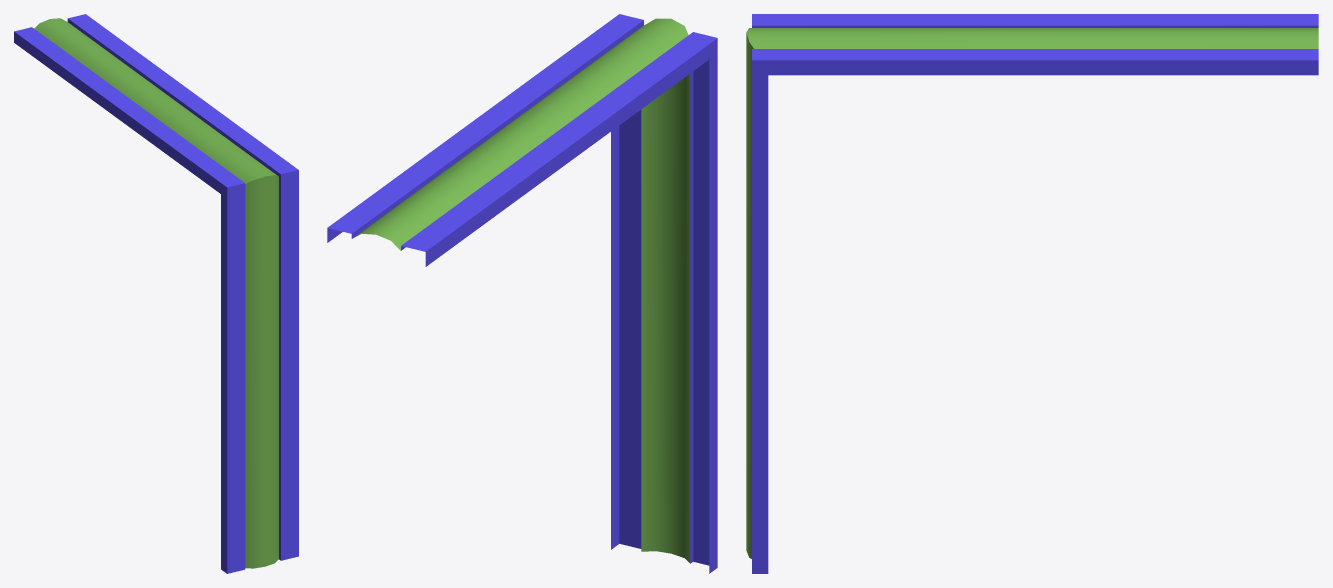
File: PowerCable_WallEdgeTransition_01.FBX
3 views of the same model, side by side, from view 1: azimuth 30°, elevation 25°; view 2: azimuth 150°, elevation 25°; view 3: azimuth 270°, elevation 25° (orthographic). The views are drawn at different scales.
Visible parts, largest first — view 1: PowerCable_WallEdgeTransition_01; view 2: PowerCable_WallEdgeTransition_01; view 3: PowerCable_WallEdgeTransition_01.
Part boxes in pixels (box(x1,y1,x2,y2)): PowerCable_WallEdgeTransition_01: box(14, 14, 298, 573); PowerCable_WallEdgeTransition_01: box(327, 14, 717, 573); PowerCable_WallEdgeTransition_01: box(746, 14, 1318, 573).
Bounding box in the file's own units: 0.2 × 1.04 × 1.04.
